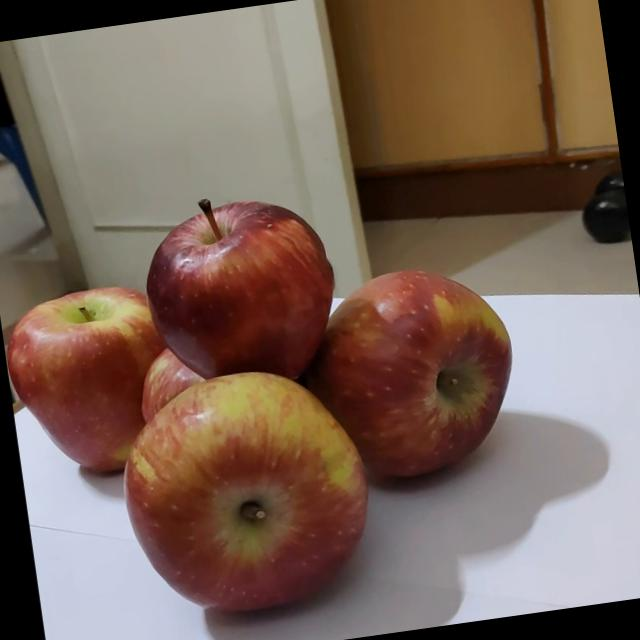apple: (78, 341, 356, 616), (279, 244, 528, 494), (113, 171, 340, 386), (15, 258, 179, 454)
